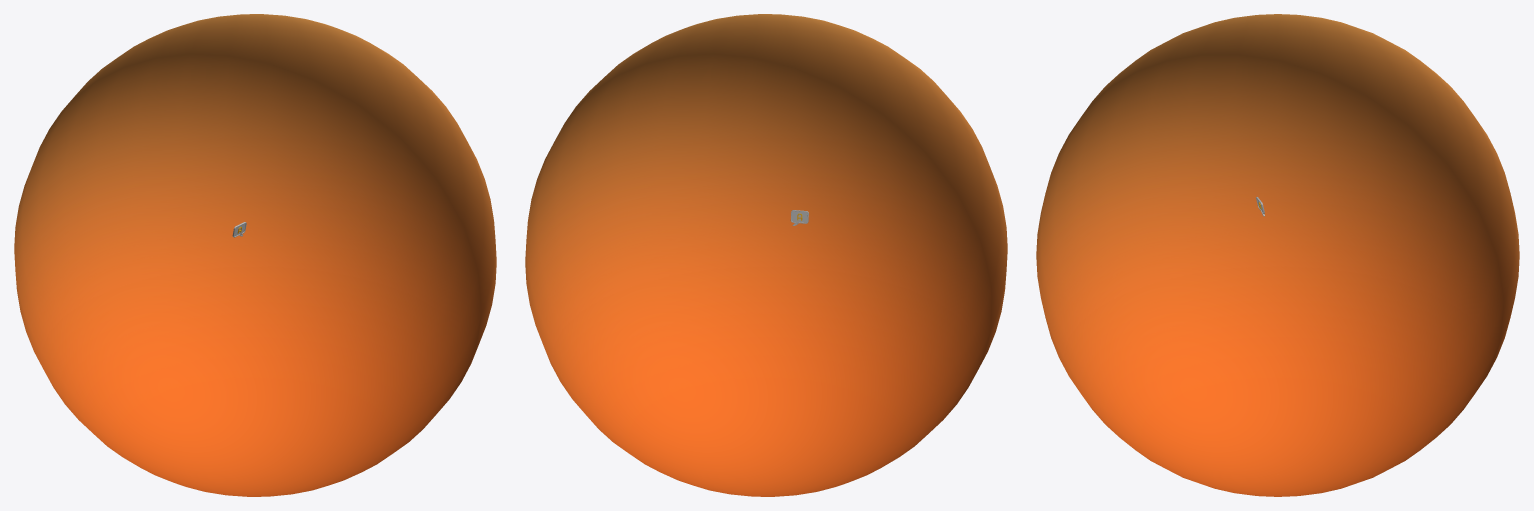
3 renders of one model, left to right at view 1: azimuth 30°, elevation 25°; view 2: azimuth 150°, elevation 25°; view 3: azimuth 270°, elevation 25°, orthographic.
Bounding box in the file's own units: 680 × 680 × 680.
3 materials, 2 textured.
